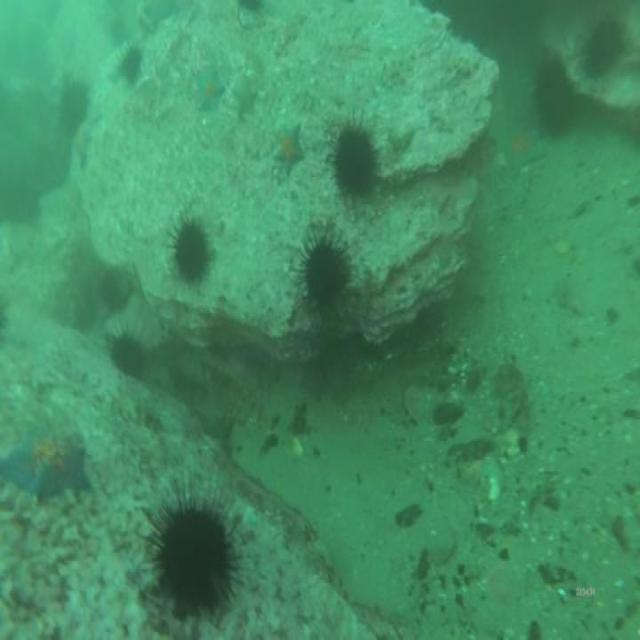echinus: (155, 506, 230, 613), (304, 236, 348, 304), (334, 130, 374, 192), (537, 60, 571, 130), (173, 224, 207, 283), (588, 24, 620, 74), (60, 79, 88, 130), (115, 332, 145, 379), (121, 46, 144, 80)
starfish: (4, 427, 92, 499), (507, 125, 544, 172), (274, 125, 300, 172), (196, 74, 222, 112)
